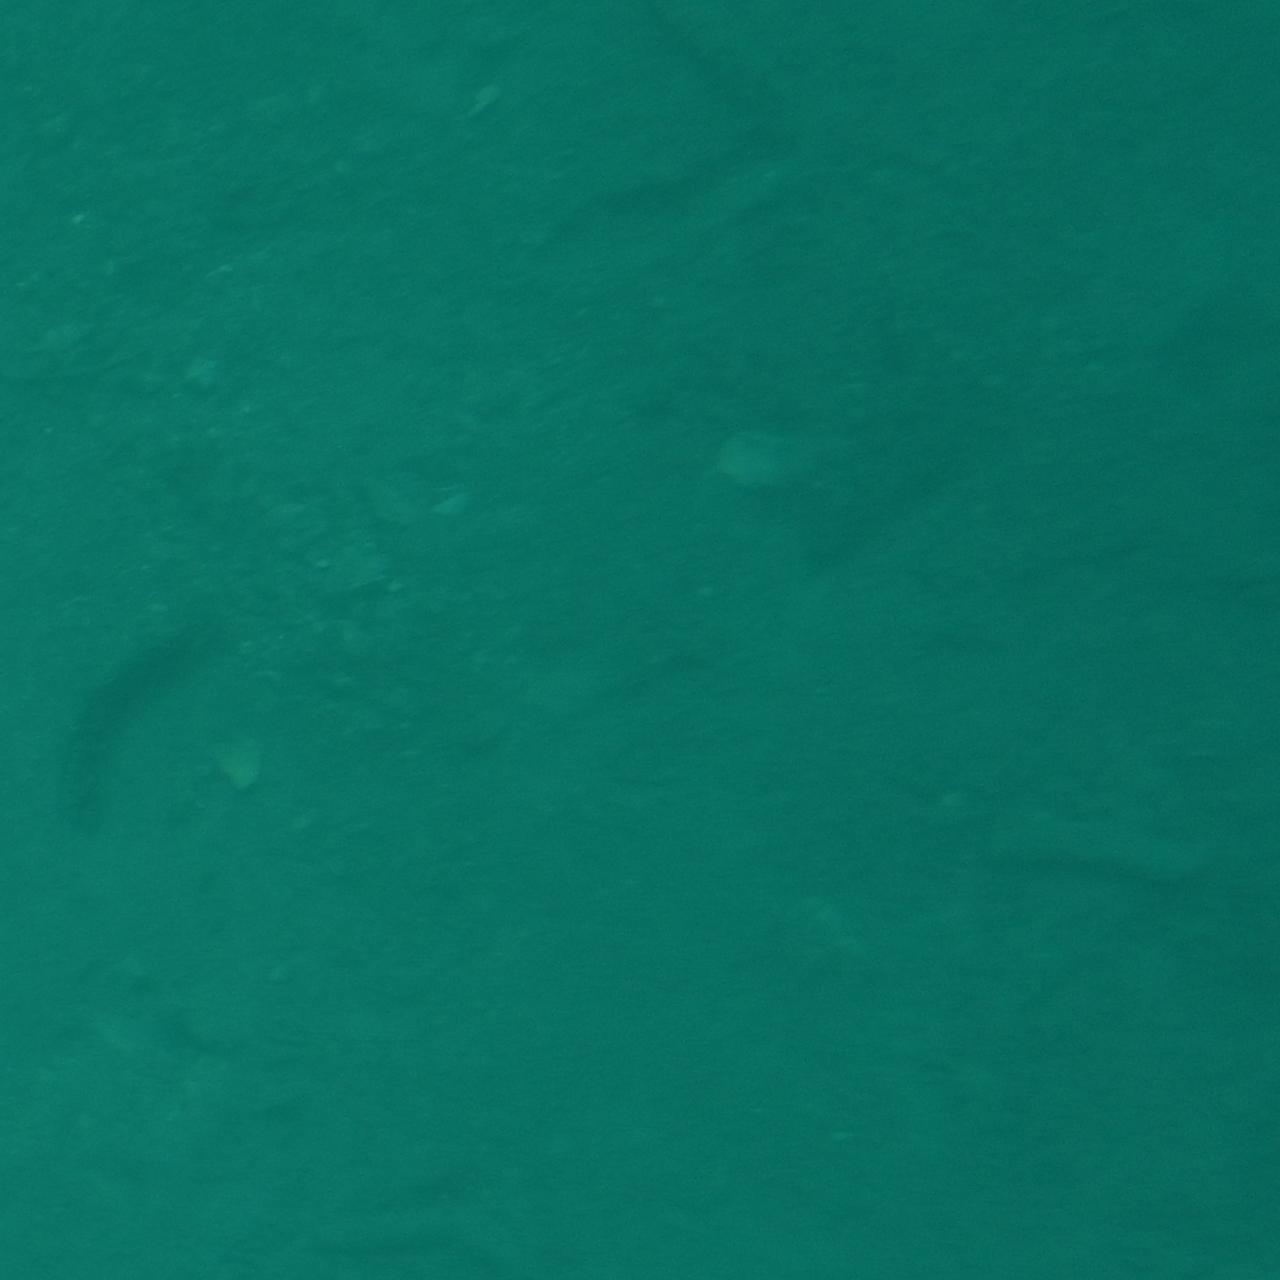Holothuria tubulosa: (72, 594, 237, 839), (942, 792, 1280, 886), (277, 1184, 579, 1280), (667, 0, 823, 163)
